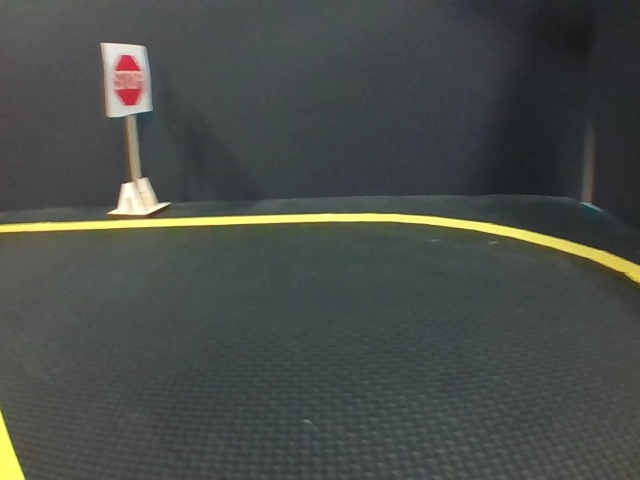stop: (104, 45, 147, 114)
